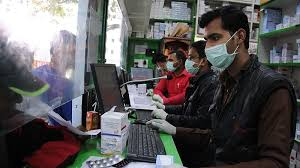mask: (201, 11, 249, 71), (182, 40, 202, 74), (163, 48, 181, 73), (150, 53, 165, 71)
